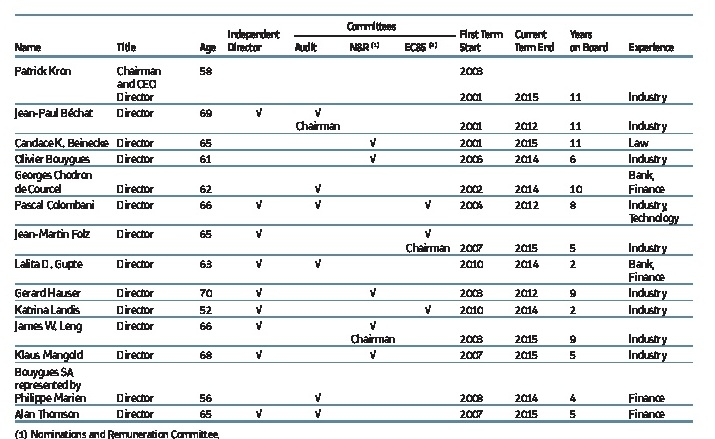table: (0, 0, 715, 439)
